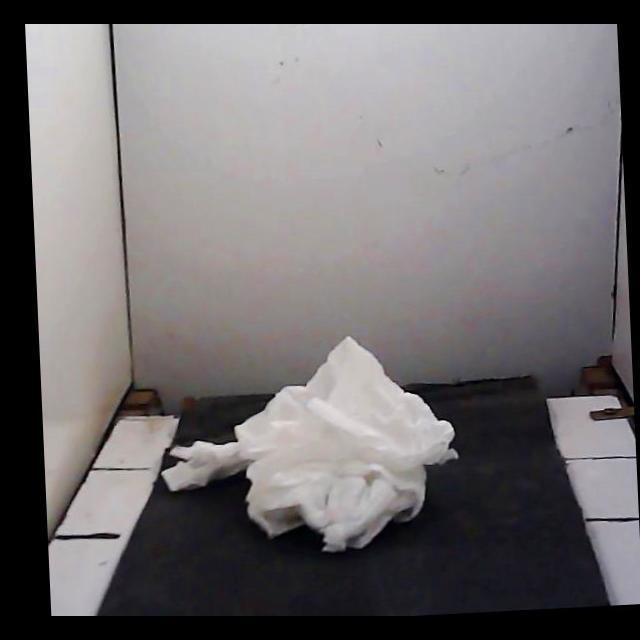papel: (163, 337, 456, 551)
